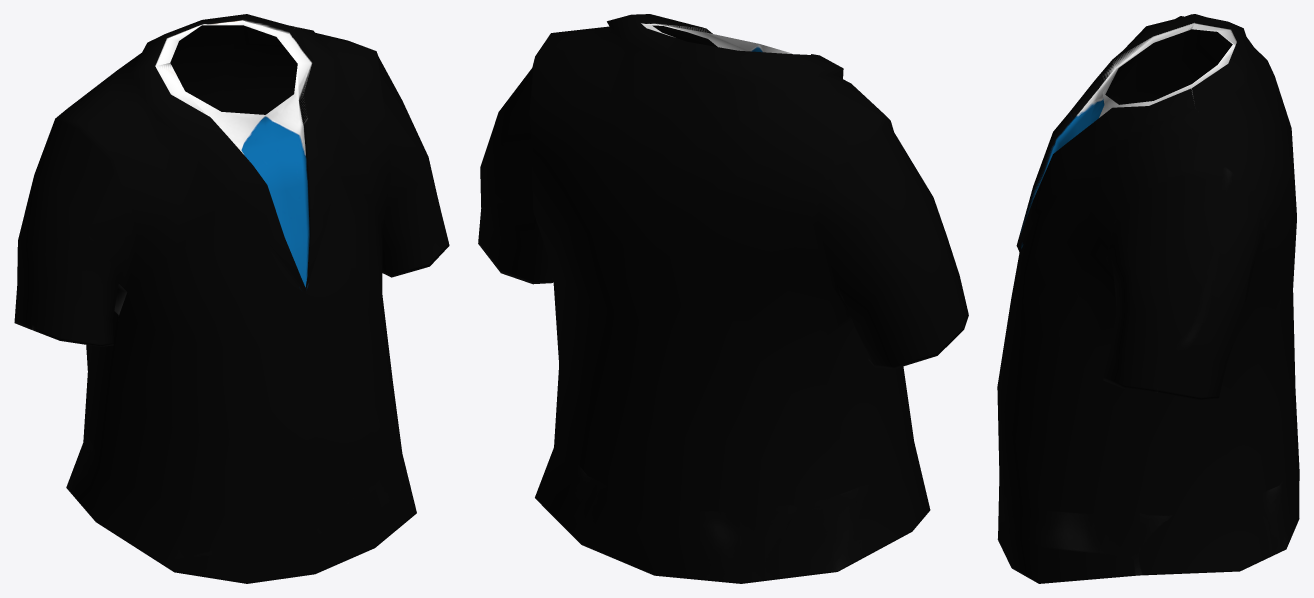
Rendered from AF_M_Jacket_12.fbx.
The picture shows the model from 3 angles, left to right: view 1: azimuth 30°, elevation 25°; view 2: azimuth 150°, elevation 25°; view 3: azimuth 270°, elevation 25°; orthographic projection. The views are drawn at different scales.
Visible parts, largest first — view 1: AF_M_Jacket_12; view 2: AF_M_Jacket_12; view 3: AF_M_Jacket_12.
Boxes of the visible parts, <box> form: AF_M_Jacket_12: <box>14,14,449,583</box>; AF_M_Jacket_12: <box>478,14,968,583</box>; AF_M_Jacket_12: <box>997,14,1299,583</box>.
Size of the model in its own units: 468 by 510 by 281.
